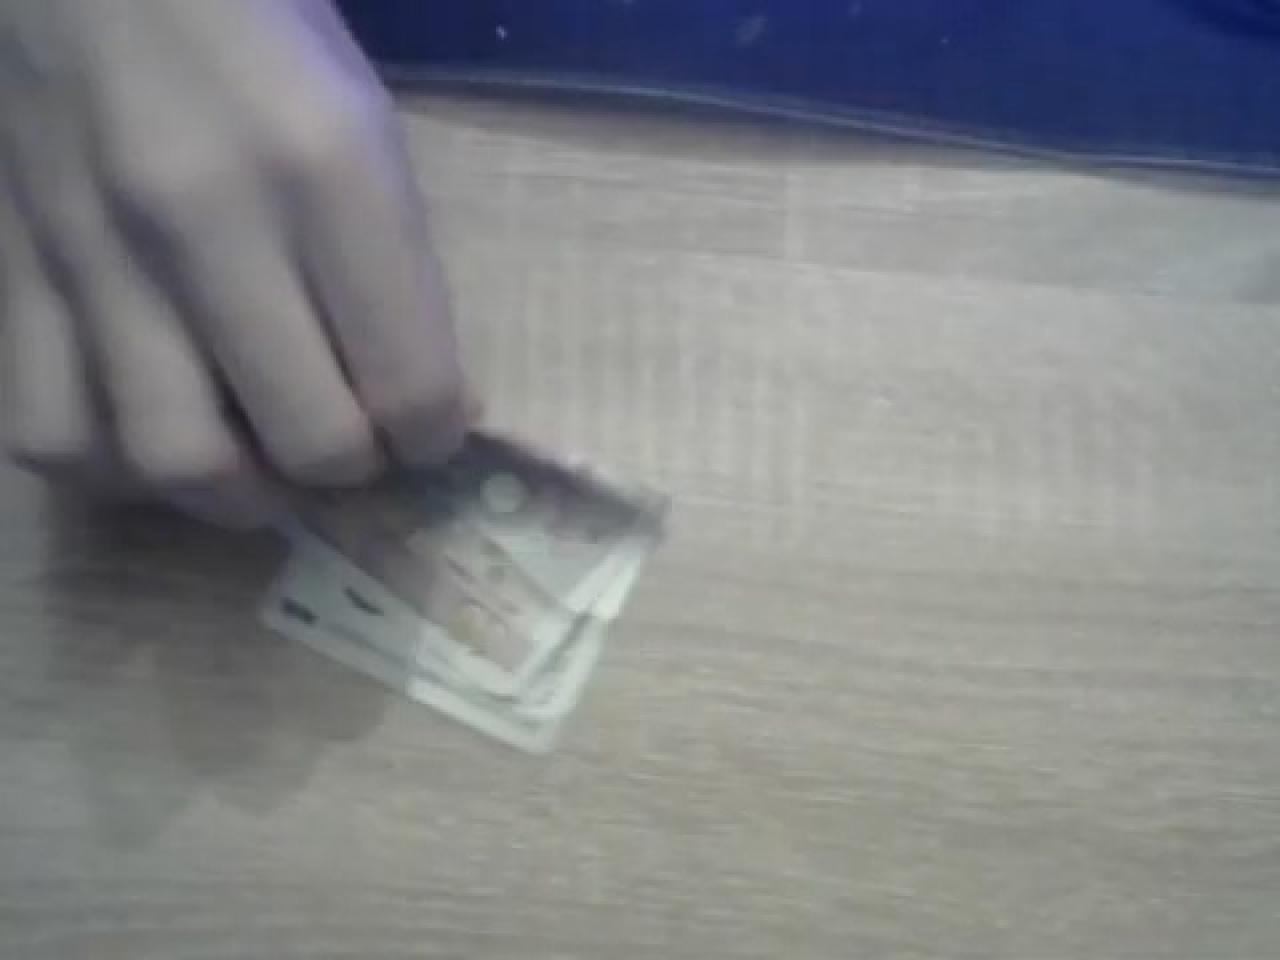10leva: (251, 422, 669, 757)
